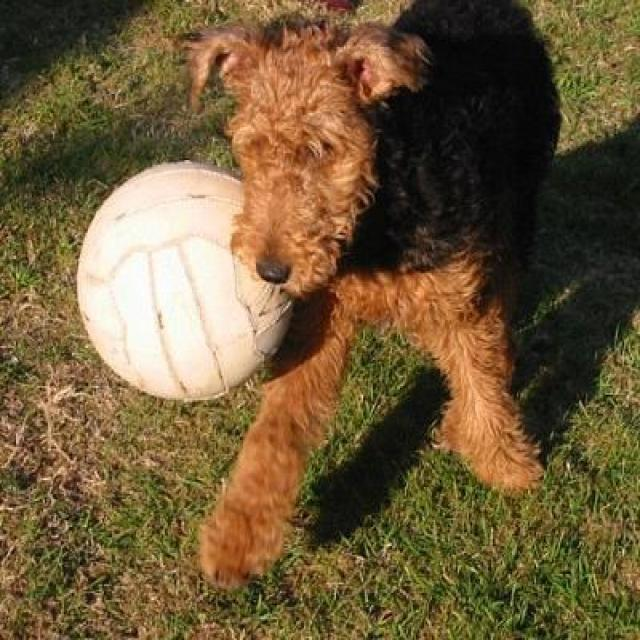airedale: (192, 7, 562, 583)
